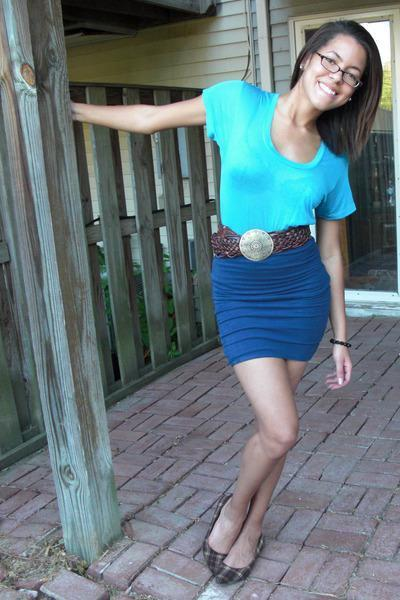shirt: (204, 80, 355, 234)
shoe: (204, 548, 256, 586)
skirt: (210, 240, 332, 364)
